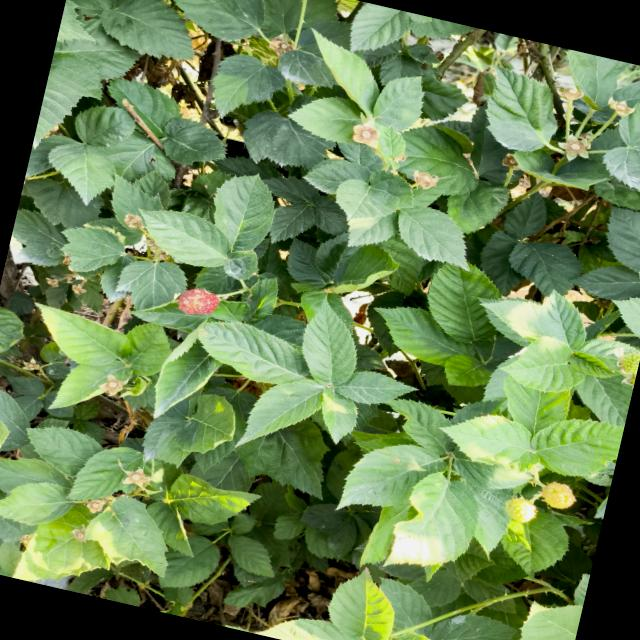naranja: (177, 288, 219, 314)
verde: (613, 346, 640, 386), (541, 482, 575, 508), (504, 497, 536, 522)
